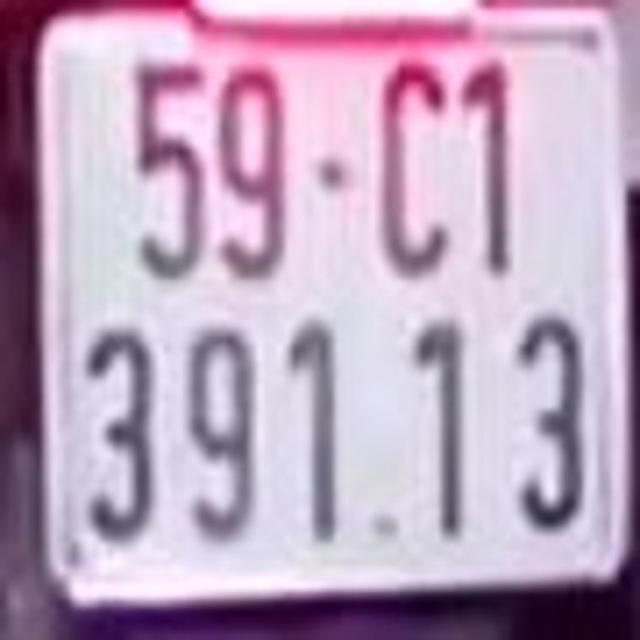1: (460, 57, 518, 276), (286, 318, 341, 541), (413, 316, 468, 537)
3: (81, 322, 156, 542), (514, 313, 587, 532)
5: (130, 57, 208, 280)
9: (217, 62, 287, 281), (186, 323, 254, 540)
C: (378, 60, 452, 279)
